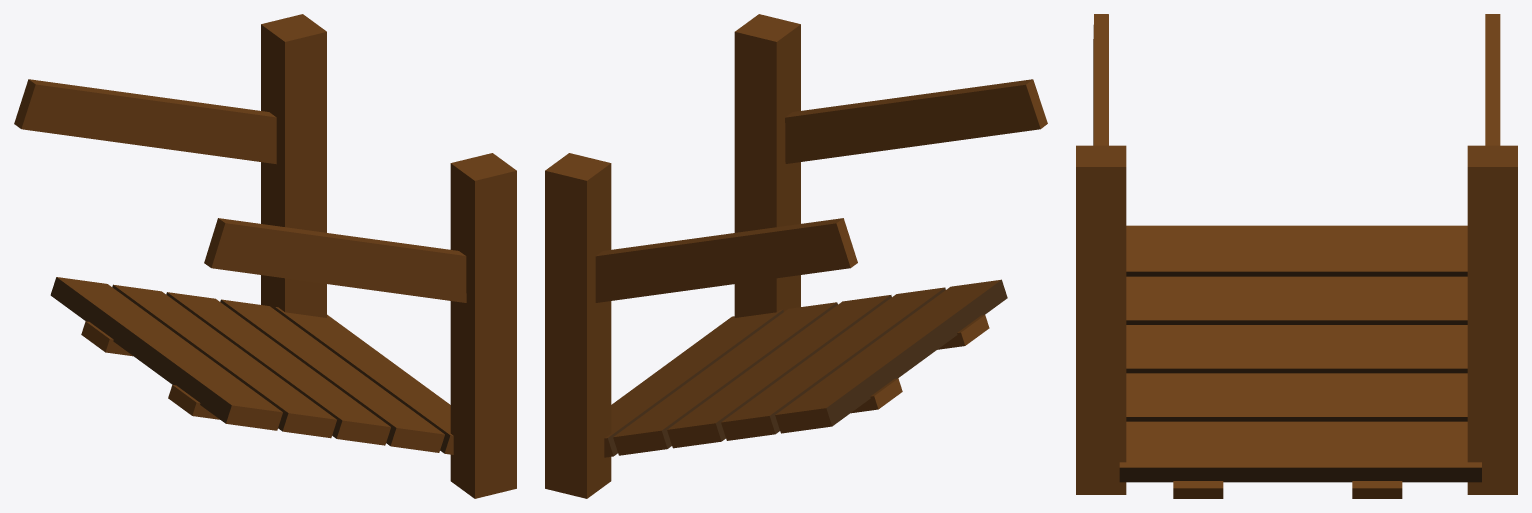
Rendered from Bridge_BeginningUV.fbx.
The picture shows the model from 3 angles, left to right: view 1: azimuth 30°, elevation 25°; view 2: azimuth 150°, elevation 25°; view 3: azimuth 270°, elevation 25°; orthographic projection. The views are drawn at different scales.
Parts seen in each view (by area): view 1: Cube; view 2: Cube; view 3: Cube.
Part boxes in pixels (box(x1,y1,x2,y2)): Cube: box(14, 14, 516, 498); Cube: box(545, 14, 1047, 498); Cube: box(1076, 14, 1517, 498).
Size of the model in its own units: 182 by 187 by 221.
